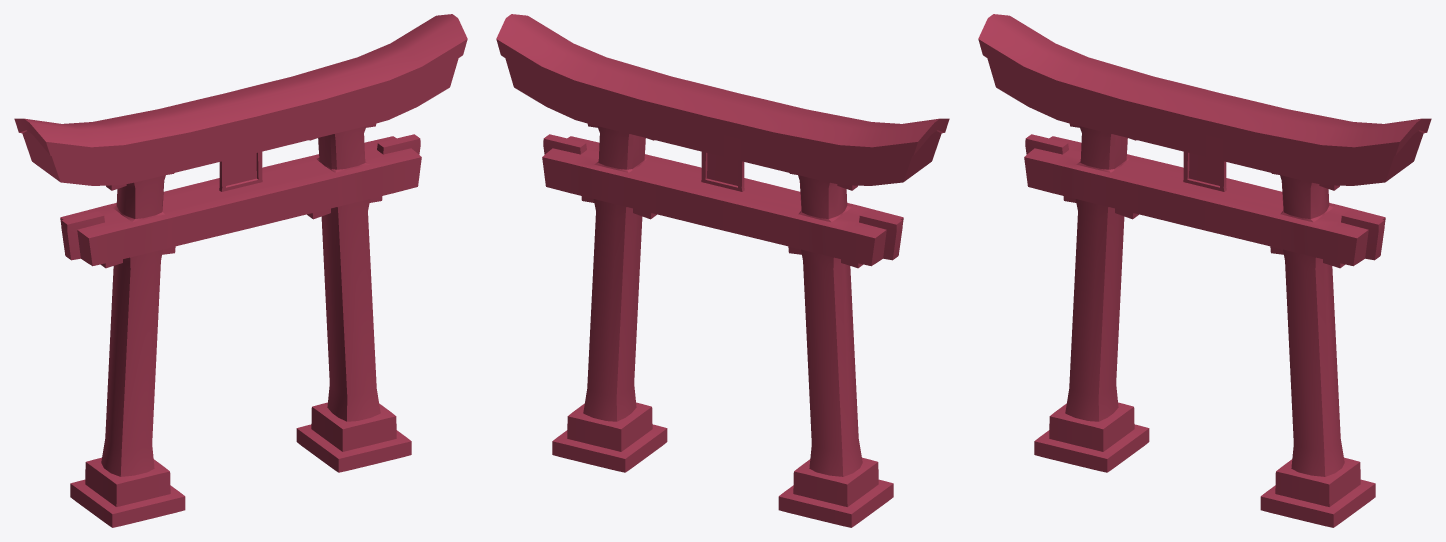
Rendered from Torii_M.fbx.
The picture shows the model from 3 angles, left to right: view 1: azimuth 30°, elevation 25°; view 2: azimuth 150°, elevation 25°; view 3: azimuth 330°, elevation 25°; orthographic projection.
Parts seen in each view (by area): view 1: tate1; view 2: tate1; view 3: tate1.
Boxes of the visible parts, x1,y1,x2,y2 form: tate1: (14,14,467,527); tate1: (496,14,949,527); tate1: (978,14,1431,527).
Size of the model in its own units: 142 by 129 by 24.31.
